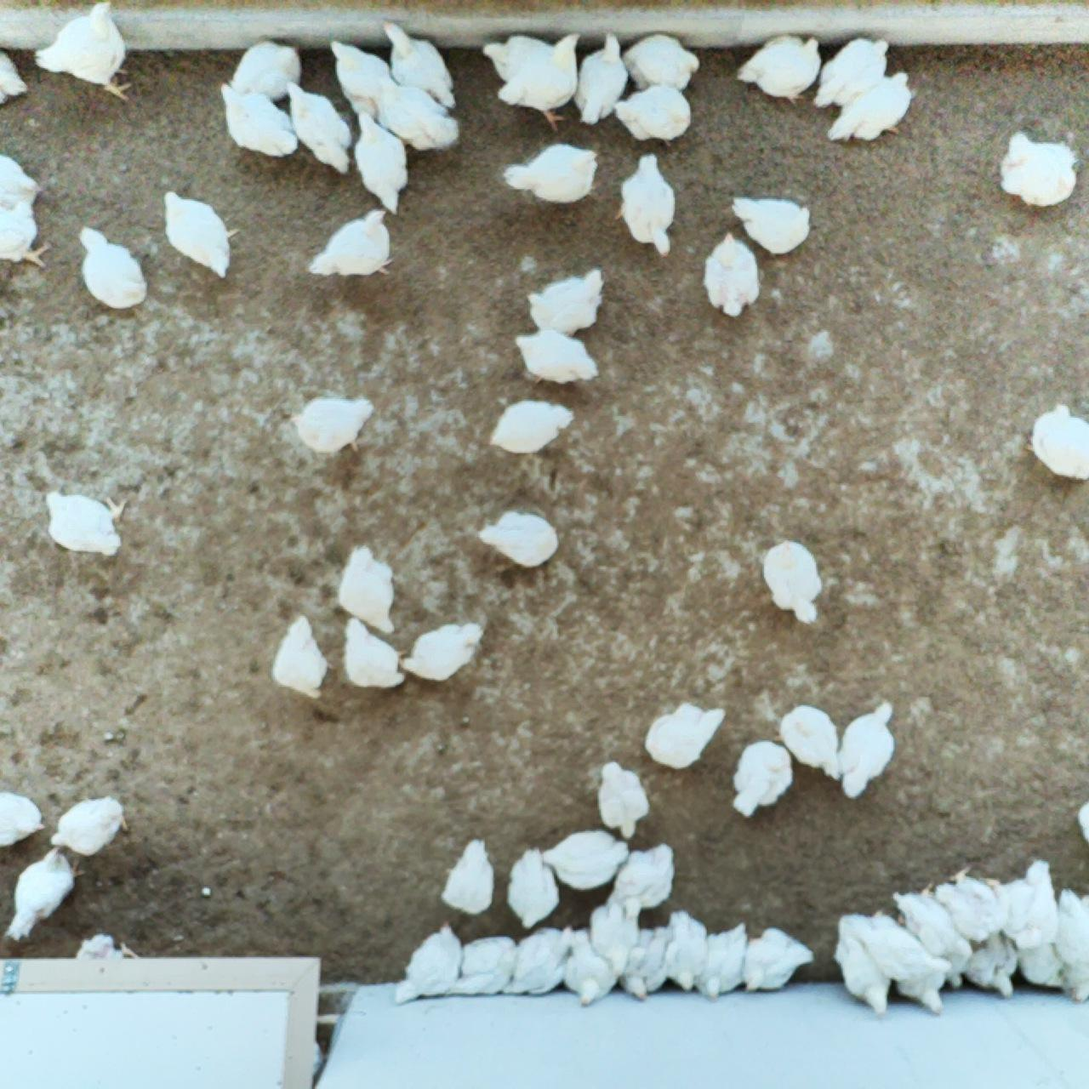chicken: (30, 0, 139, 105), (889, 879, 973, 991), (496, 32, 583, 130), (160, 184, 243, 284), (378, 15, 461, 113), (0, 843, 81, 943), (995, 128, 1085, 213), (613, 149, 680, 261), (73, 220, 148, 320), (369, 79, 465, 156), (306, 205, 395, 284), (825, 70, 916, 147), (286, 78, 357, 176), (348, 108, 413, 215), (500, 140, 603, 207), (734, 30, 824, 106), (40, 483, 128, 560), (217, 80, 300, 161), (0, 151, 55, 273), (831, 910, 892, 1020), (335, 541, 405, 636), (392, 919, 465, 1010), (837, 696, 899, 802), (860, 910, 953, 980), (288, 393, 377, 465), (812, 35, 893, 113), (335, 611, 410, 695), (642, 703, 729, 773), (542, 825, 632, 892), (400, 617, 487, 686), (771, 698, 842, 781), (271, 611, 335, 702), (506, 329, 606, 387), (529, 267, 608, 338), (699, 231, 763, 318), (730, 739, 796, 823), (322, 37, 392, 116), (763, 534, 823, 626), (484, 398, 576, 458), (730, 189, 813, 255), (53, 791, 136, 857), (745, 923, 817, 998), (618, 28, 701, 93), (613, 81, 694, 147), (1024, 402, 1089, 483), (476, 508, 562, 569), (1005, 856, 1060, 951), (609, 838, 677, 914), (693, 919, 753, 1003), (438, 835, 499, 917), (936, 865, 1001, 941), (596, 758, 653, 842), (447, 933, 522, 996), (507, 845, 562, 930), (230, 35, 305, 97), (507, 923, 571, 995), (566, 927, 616, 1011), (620, 924, 671, 1003), (1056, 886, 1089, 999), (479, 35, 555, 84), (964, 933, 1017, 1003), (669, 908, 709, 995), (596, 899, 639, 979), (0, 788, 46, 855), (1021, 939, 1073, 996), (899, 973, 951, 1017), (0, 42, 31, 108)
